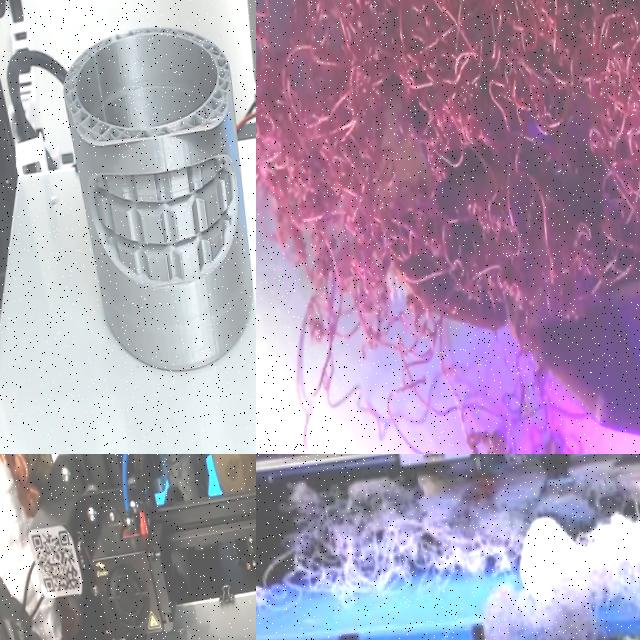spaghetti: (256, 454, 640, 640), (295, 299, 564, 454)
